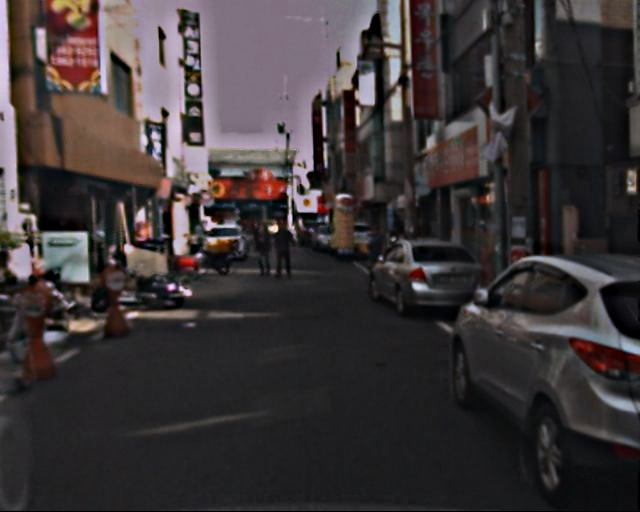person: (273, 215, 299, 284), (366, 216, 391, 287), (257, 217, 279, 277)
